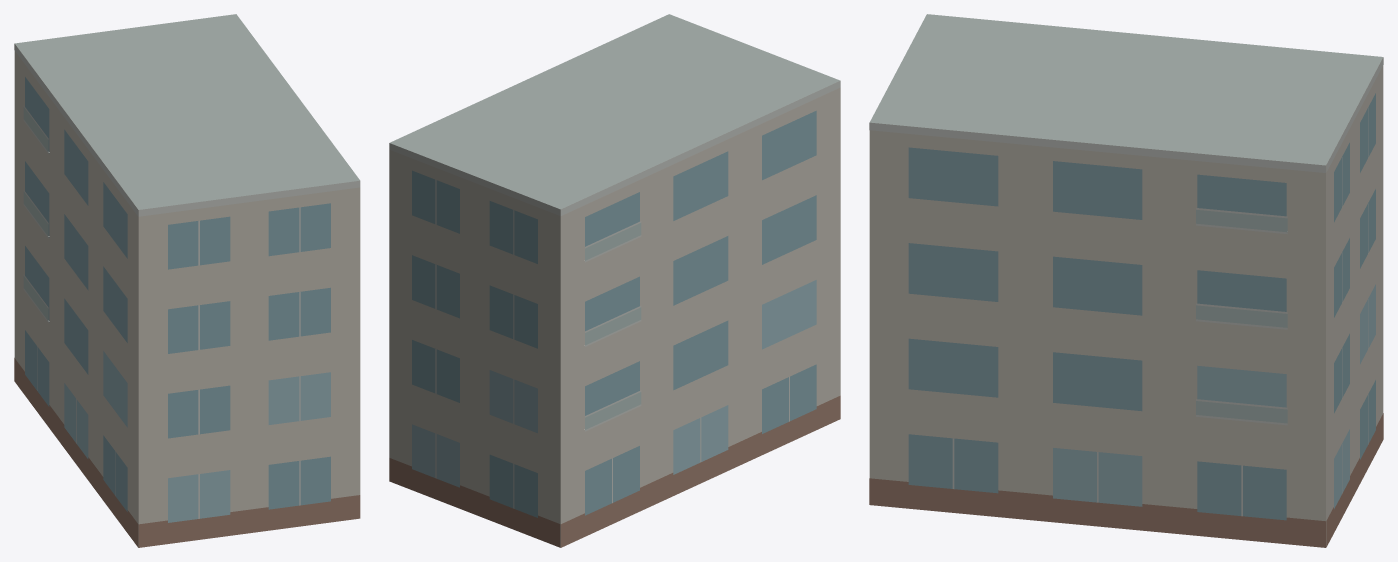
The model's file is residential-c0f30be7-c1d1-4f48-a452-e1512ef8d35f.glb.
3 renders of one model, left to right at view 1: azimuth 30°, elevation 25°; view 2: azimuth 150°, elevation 25°; view 3: azimuth 270°, elevation 25°, orthographic. The views are drawn at different scales.
Parts seen in each view (by area): view 1: residential-c0f30be7-c1d1-4f48-a452-e1512ef8d35f.tmp; view 2: residential-c0f30be7-c1d1-4f48-a452-e1512ef8d35f.tmp; view 3: residential-c0f30be7-c1d1-4f48-a452-e1512ef8d35f.tmp.
Boxes of the visible parts, x1=… form: residential-c0f30be7-c1d1-4f48-a452-e1512ef8d35f.tmp: x1=14, y1=14, x2=360, y2=547; residential-c0f30be7-c1d1-4f48-a452-e1512ef8d35f.tmp: x1=389, y1=14, x2=840, y2=547; residential-c0f30be7-c1d1-4f48-a452-e1512ef8d35f.tmp: x1=869, y1=14, x2=1383, y2=547.
Size of the model in its own units: 10.38 by 12.2 by 14.87.
